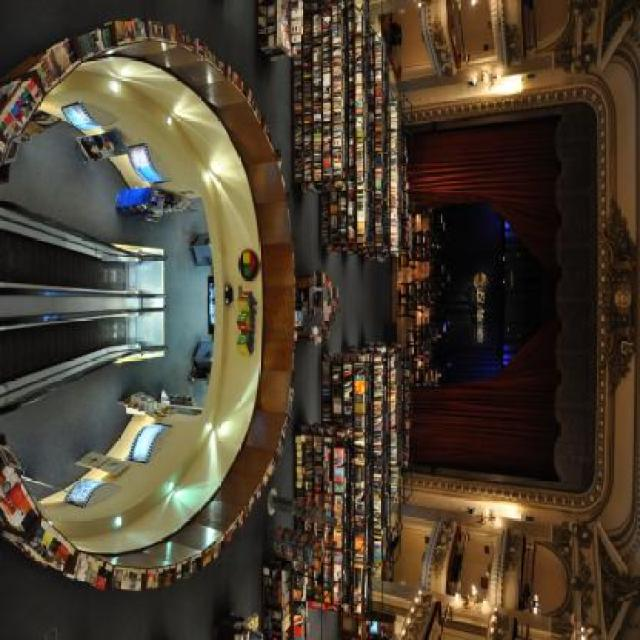stair: (0, 318, 126, 384), (0, 229, 126, 286)
